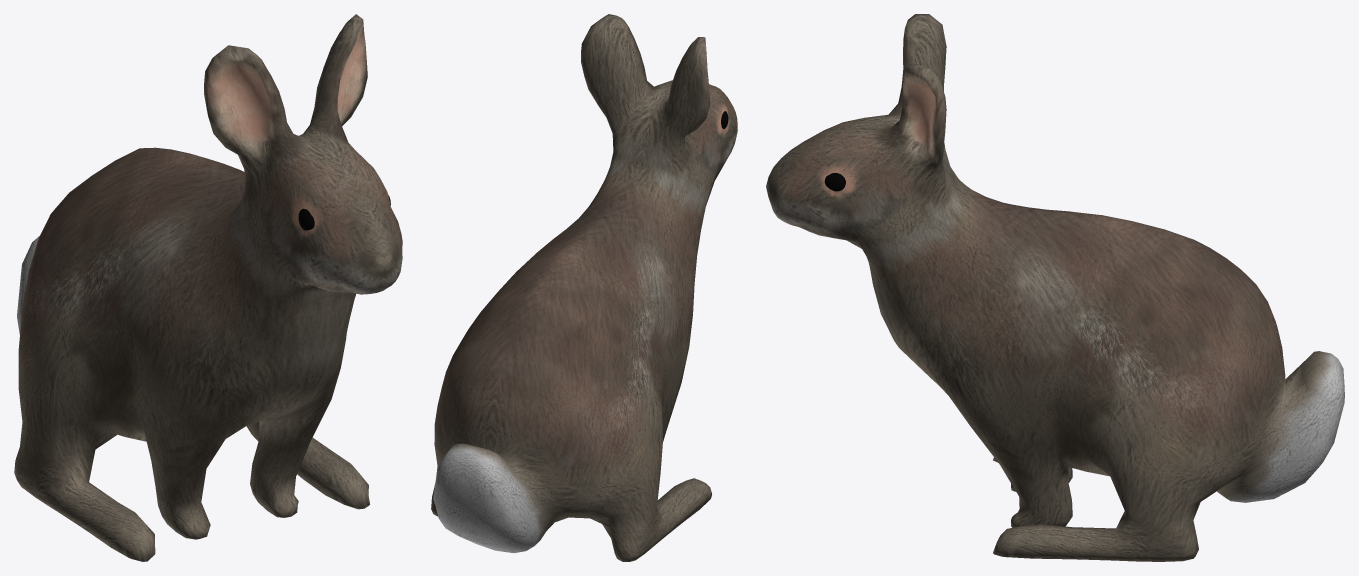
Rendered from Conejo serrano.glb.
The picture shows the model from 3 angles, left to right: view 1: azimuth 30°, elevation 25°; view 2: azimuth 150°, elevation 25°; view 3: azimuth 270°, elevation 25°; orthographic projection. The views are drawn at different scales.
Parts seen in each view (by area): view 1: Sylvilagus floridanus; view 2: Sylvilagus floridanus; view 3: Sylvilagus floridanus.
Boxes of the visible parts, x1,y1,x2,y2 form: Sylvilagus floridanus: (14, 14, 402, 561); Sylvilagus floridanus: (431, 14, 737, 561); Sylvilagus floridanus: (766, 14, 1344, 561).
Bounding box in the file's own units: 3.58 × 7 × 7.79.
2 materials, 2 textured.
